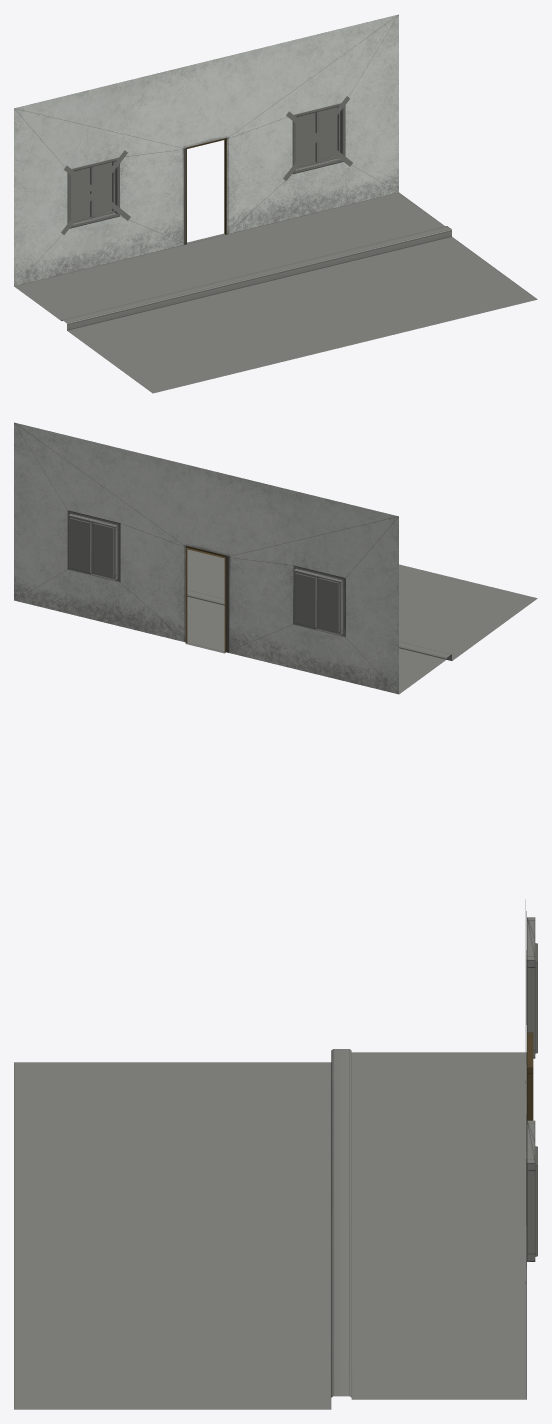
The model's file is OUTSIDE_HOUSE.fbx.
3 views of the same model, one above another, from view 1: azimuth 30°, elevation 25°; view 2: azimuth 150°, elevation 25°; view 3: azimuth 270°, elevation 25° (orthographic). The views are drawn at different scales.
Parts seen in each view (by area): view 1: OUTSIDE_HOUSE; view 2: OUTSIDE_HOUSE; view 3: OUTSIDE_HOUSE.
Part boxes in pixels (box(x1,y1,x2,y2)): OUTSIDE_HOUSE: box(14, 14, 537, 393); OUTSIDE_HOUSE: box(14, 422, 537, 694); OUTSIDE_HOUSE: box(14, 899, 537, 1409).
Size of the model in its own units: 890 by 405 by 567.
